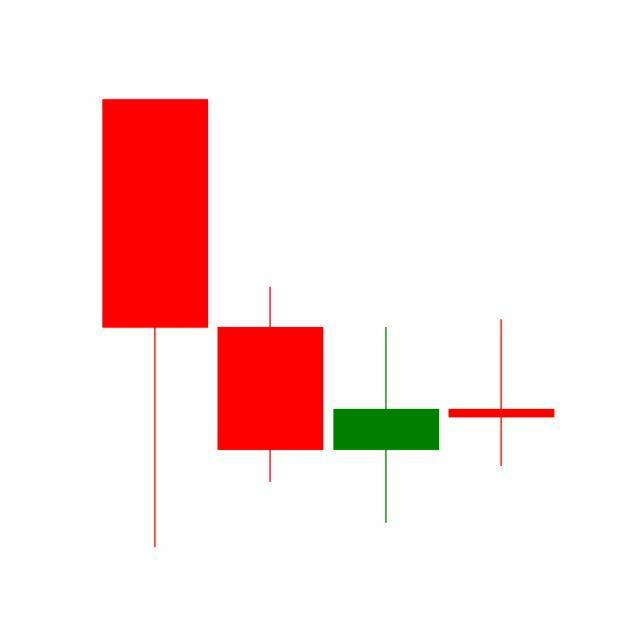Spinning Top: (444, 318, 560, 469)
